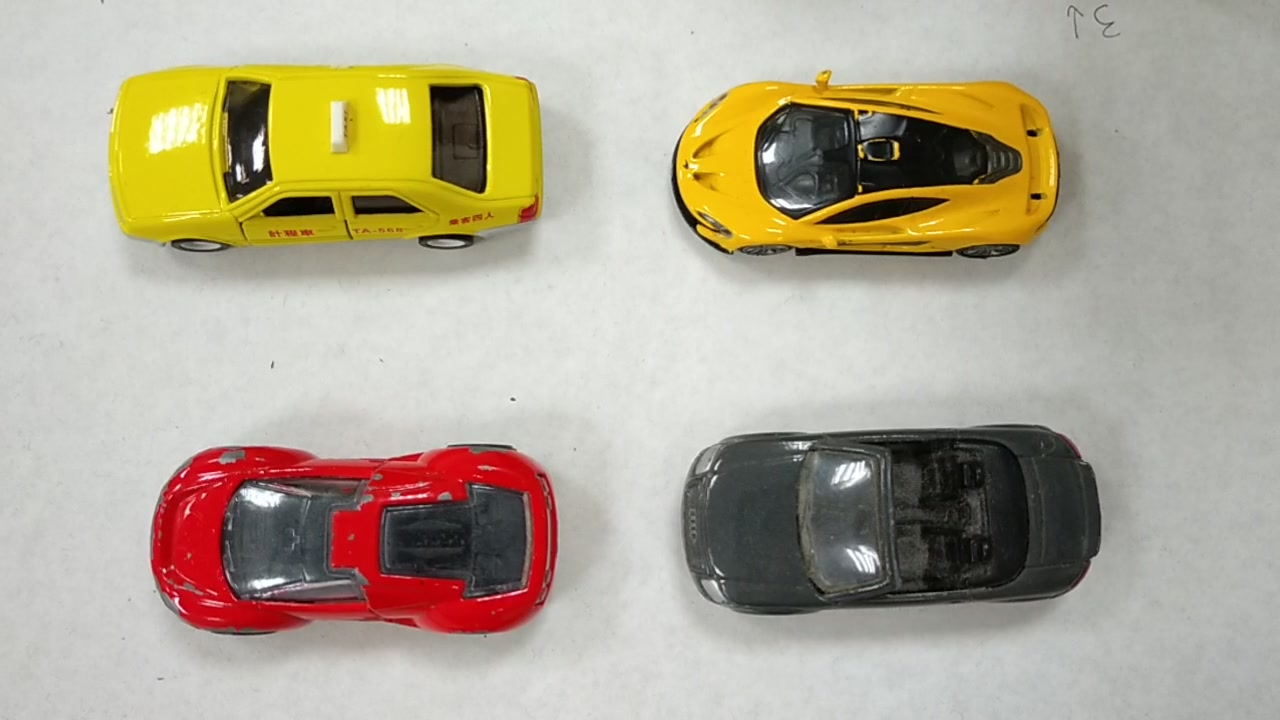car: (681, 416, 1107, 612), (108, 63, 548, 233), (145, 451, 570, 627), (671, 87, 1057, 253)
